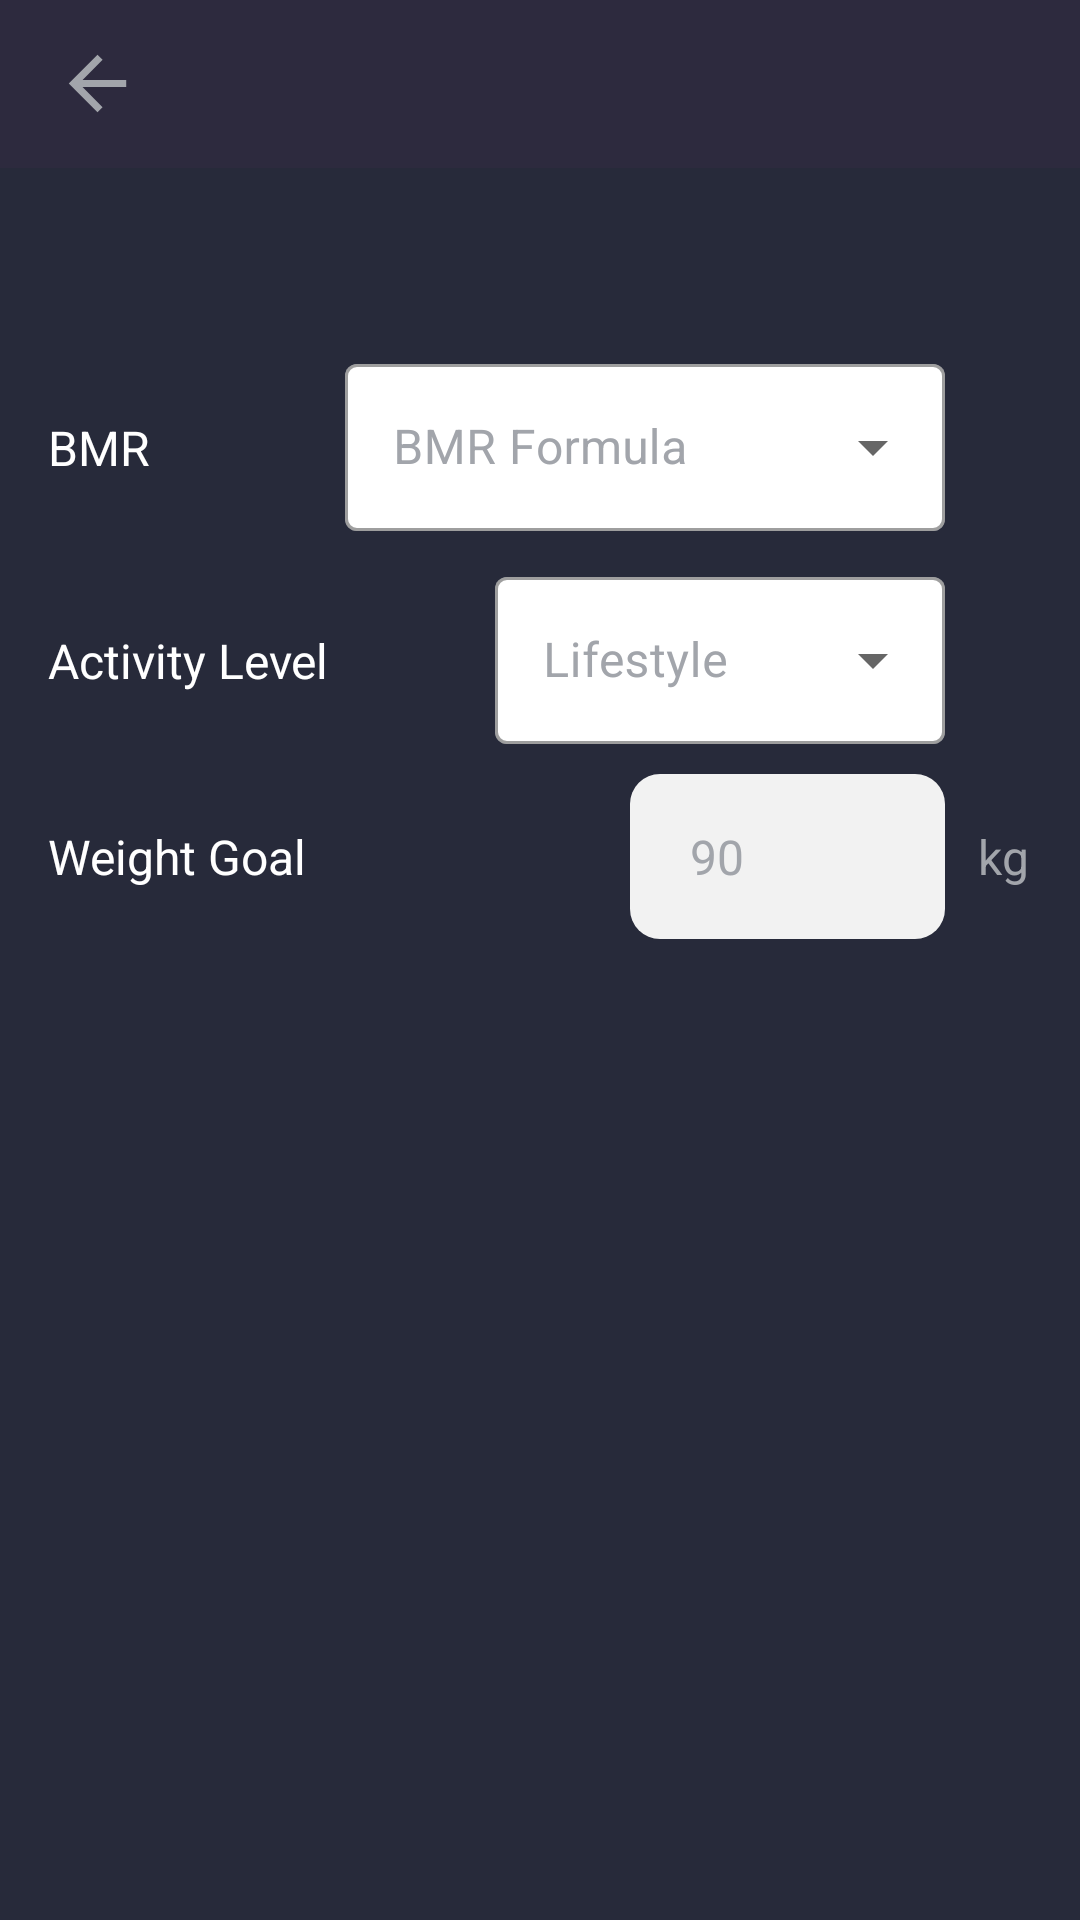

Screen size 1080*1920. Icon name, then its box in pixels as [left=x1, top=y1, right=x2, bottom=y2]:
left arrow: [left=69, top=55, right=127, bottom=112]
